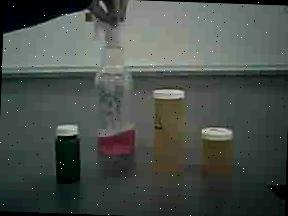Bottle A: (146, 80, 196, 188)
Bottle B: (200, 118, 240, 184)
Bottle C: (52, 119, 92, 195)
hazard: (80, 12, 147, 162)
